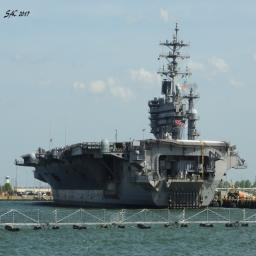Portanaves: (15, 24, 249, 213)
